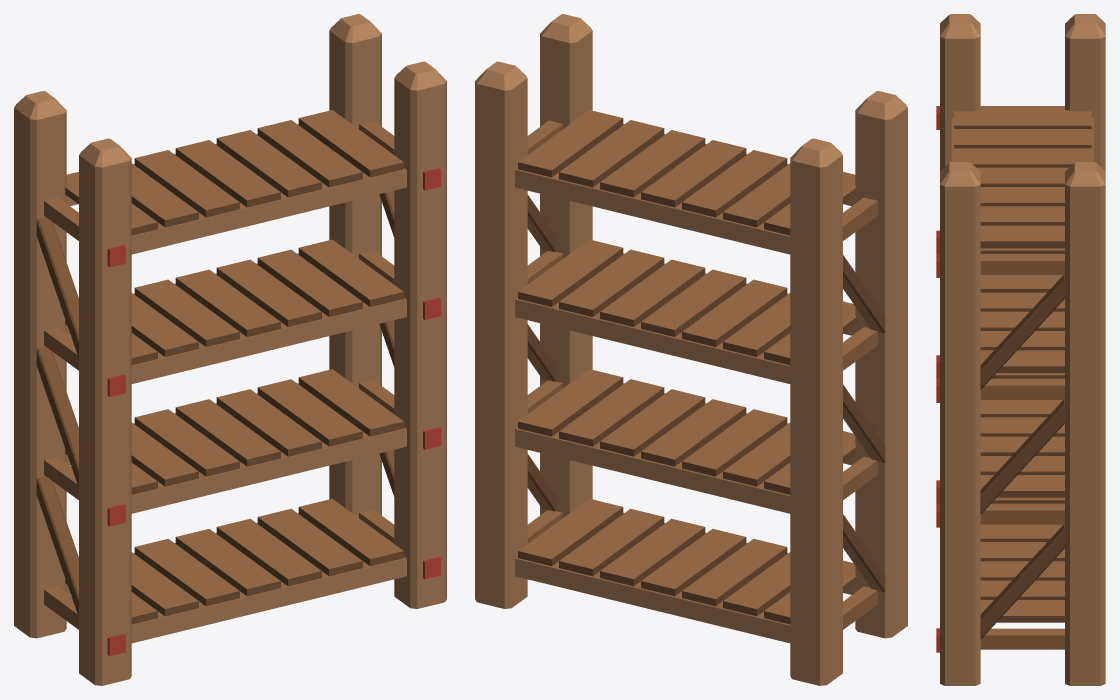
The model's file is FMS_Workshop_FUR_03.fbx.
3 views of the same model, side by side, from view 1: azimuth 30°, elevation 25°; view 2: azimuth 150°, elevation 25°; view 3: azimuth 270°, elevation 25° (orthographic). The views are drawn at different scales.
Visible parts, largest first — view 1: FMS_Workshop_FUR_03_Body; view 2: FMS_Workshop_FUR_03_Body; view 3: FMS_Workshop_FUR_03_Body.
Boxes of the visible parts, <box> form: FMS_Workshop_FUR_03_Body: <box>14,14,446,685</box>; FMS_Workshop_FUR_03_Body: <box>475,14,907,685</box>; FMS_Workshop_FUR_03_Body: <box>936,14,1105,685</box>.
Size of the model in its own units: 1.25 by 1.8 by 0.542.
